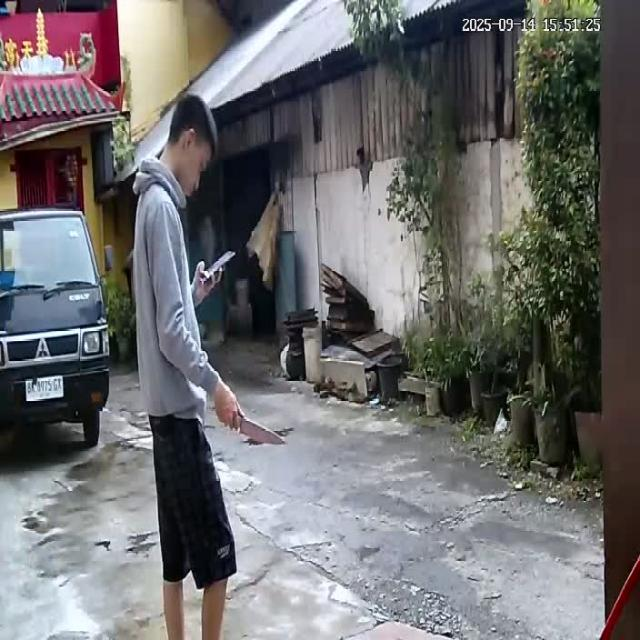senjata_tajam: (236, 416, 289, 447)
